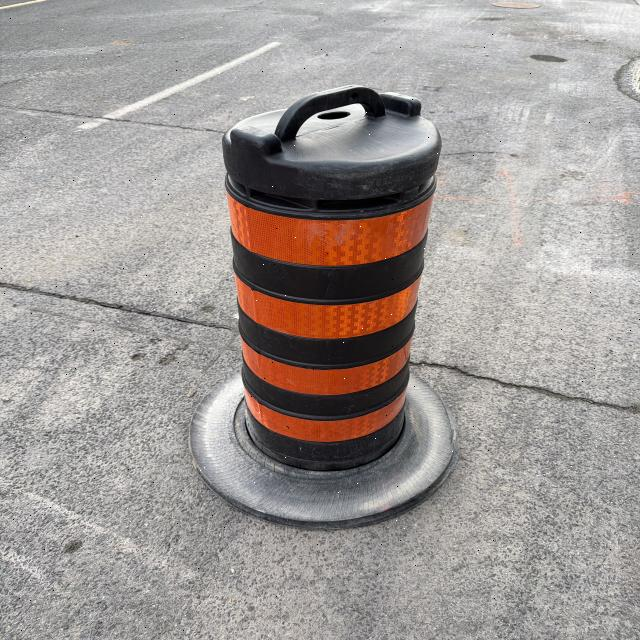Teraffic Barrel: (191, 86, 457, 526)
